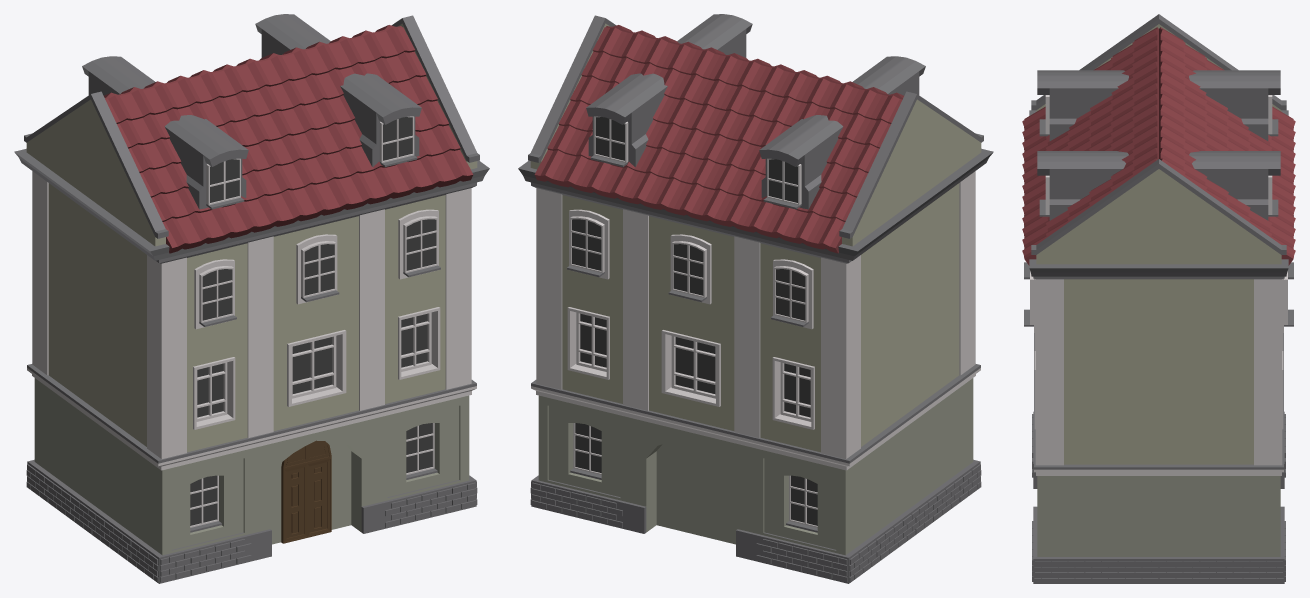
The model's file is townhouse2.glb.
The picture shows the model from 3 angles, left to right: view 1: azimuth 30°, elevation 25°; view 2: azimuth 150°, elevation 25°; view 3: azimuth 270°, elevation 25°; orthographic projection. The views are drawn at different scales.
Parts seen in each view (by area): view 1: Building1_Small; view 2: Building1_Small; view 3: Building1_Small.
Boxes of the visible parts, box(x1,y1,x2,y2) form: Building1_Small: box(14, 14, 489, 583); Building1_Small: box(518, 14, 993, 583); Building1_Small: box(1022, 14, 1295, 583).
Bounding box in the file's own units: 3.75 × 4.66 × 2.74.
1 material, 1 textured.
